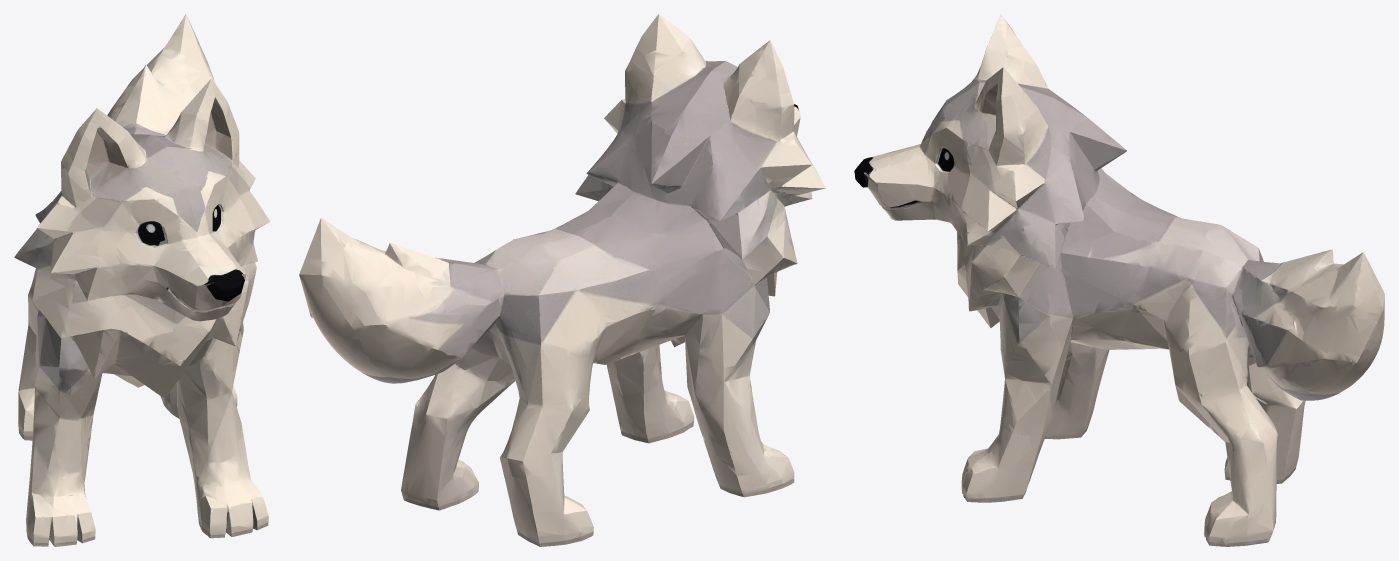
Rendered from wolf.glb.
3 renders of one model, left to right at view 1: azimuth 30°, elevation 25°; view 2: azimuth 150°, elevation 25°; view 3: azimuth 270°, elevation 25°, orthographic. The views are drawn at different scales.
Size of the model in its own units: 1.37 by 1.66 by 1.9.
1 material, 1 textured.
